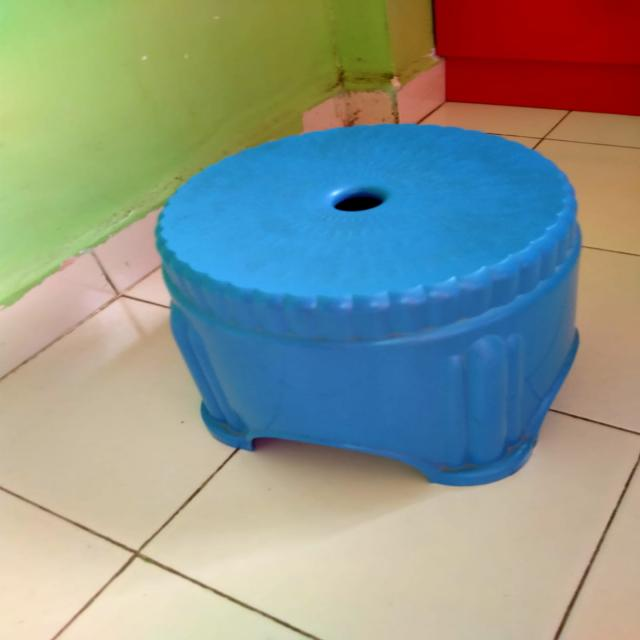Stool: (154, 118, 598, 488)
